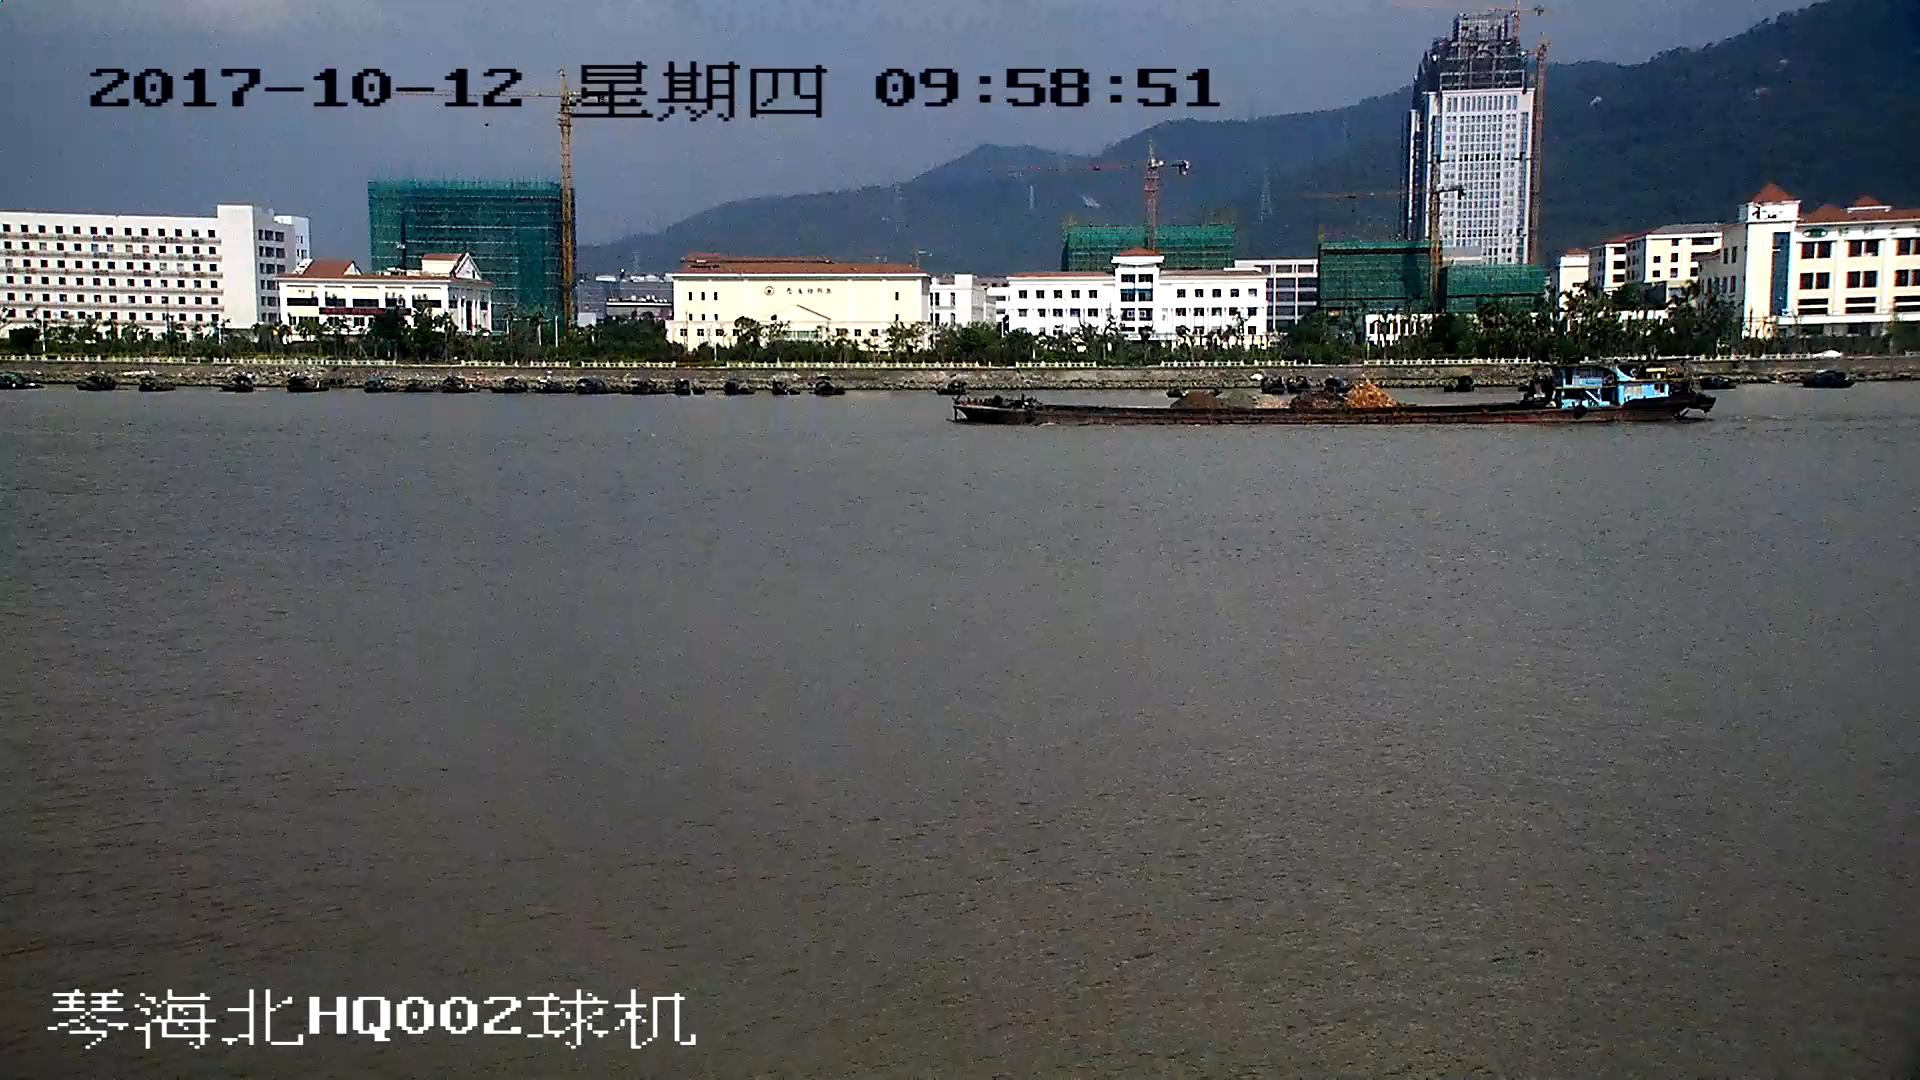ore carrier: (948, 361, 1715, 429)
